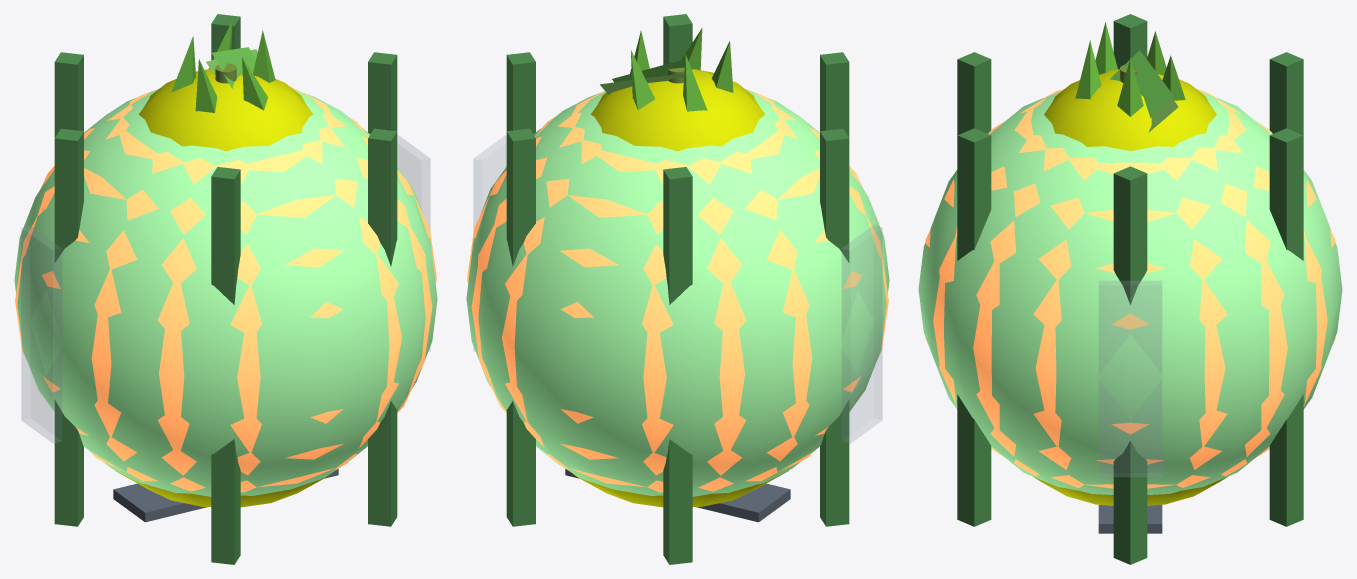
3 views of the same model, side by side, from view 1: azimuth 30°, elevation 25°; view 2: azimuth 150°, elevation 25°; view 3: azimuth 270°, elevation 25° (orthographic).
Parts seen in each view (by area): view 1: Fruit_10, Fruit_0, Fruit_11, Fruit_7, WallLeft, Fruit_9, WallBottom, WallRight, Fruit_6; view 2: Fruit_10, Fruit_0, Fruit_11, Fruit_7, WallLeft, Fruit_9, WallBottom, WallRight, Fruit_6; view 3: Fruit_10, Fruit_11, Fruit_0, WallRight, Fruit_7, Fruit_9, Fruit_6, WallBottom.
Boxes of the visible parts, x1,y1,x2,y2 form: Fruit_10: [14, 89, 437, 496]; Fruit_0: [15, 87, 436, 492]; Fruit_11: [54, 14, 397, 564]; Fruit_7: [115, 64, 330, 507]; WallLeft: [21, 225, 61, 443]; Fruit_9: [171, 20, 275, 112]; WallBottom: [113, 469, 338, 522]; WallRight: [397, 135, 430, 351]; Fruit_6: [212, 47, 255, 88]; Fruit_10: [466, 89, 889, 496]; Fruit_0: [467, 88, 888, 492]; Fruit_11: [506, 14, 849, 564]; Fruit_7: [573, 67, 788, 507]; WallLeft: [842, 225, 882, 443]; Fruit_9: [630, 28, 733, 111]; WallBottom: [565, 469, 790, 522]; WallRight: [473, 135, 506, 351]; Fruit_6: [612, 60, 684, 83]; Fruit_10: [918, 91, 1342, 494]; Fruit_11: [957, 14, 1303, 564]; Fruit_0: [925, 89, 1335, 488]; WallRight: [1099, 281, 1161, 476]; Fruit_7: [1013, 65, 1247, 505]; Fruit_9: [1075, 22, 1185, 116]; Fruit_6: [1110, 50, 1173, 118]; WallBottom: [1098, 505, 1162, 533].
Size of the model in its own units: 2.05 by 2.35 by 2.
